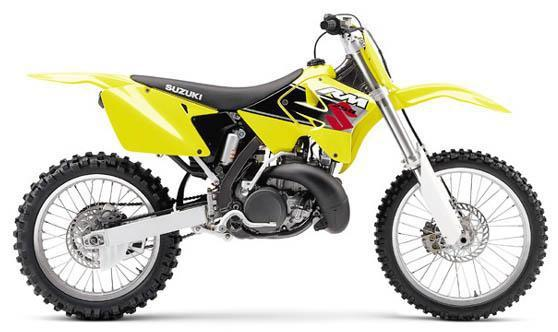motorcycle: (10, 2, 558, 332)
